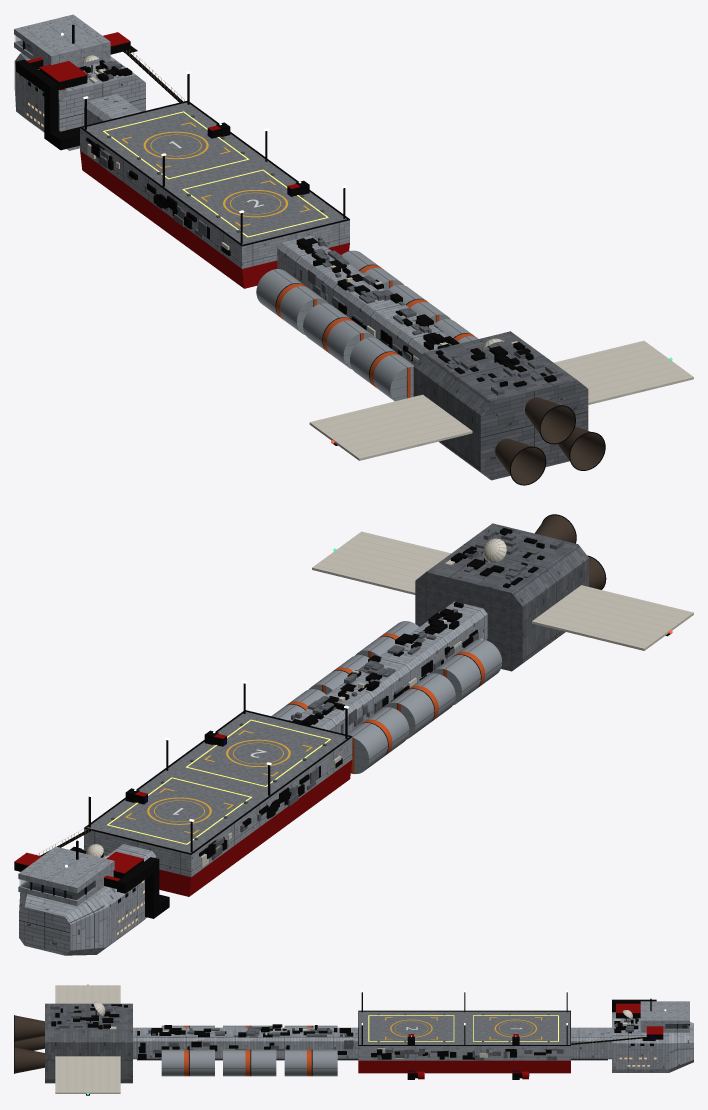
File: halyard.glb
3 renders of one model, top to bottom at view 1: azimuth 30°, elevation 25°; view 2: azimuth 150°, elevation 25°; view 3: azimuth 270°, elevation 25°, orthographic. The views are drawn at different scales.
Parts seen in each view (by area): view 1: tender:hull, tender:hull2, tender:deckTop, tender:radiator, tender:pod, tender:trim, tender:nozzle, tender:ventral_deck_fairing, tender:dark, tender:transit_guideway; view 2: tender:hull, tender:deckTop, tender:radiator, tender:hull2, tender:pod, tender:engine_forward_bulkhead, tender:trim, tender:ventral_deck_fairing, tender:dark, tender:transit_guideway, tender:nozzle; view 3: tender:hull, tender:deckTop, tender:hull2, tender:pod, tender:radiator, tender:ventral_deck_fairing, tender:trim, tender:nozzle, tender:dark, tender:transit_guideway, tender:detail_19, tender:detail_22 (+4 smaller).
Part boxes in pixels (left/top/right/bottom): tender:hull: left=14, top=14, right=447, bottom=364; tender:hull2: left=73, top=60, right=588, bottom=480; tender:deckTop: left=83, top=102, right=346, bottom=244; tender:radiator: left=82, top=55, right=693, bottom=460; tender:pod: left=256, top=250, right=478, bottom=401; tender:trim: left=23, top=24, right=605, bottom=485; tender:nozzle: left=495, top=397, right=604, bottom=484; tender:ventral_deck_fairing: left=80, top=150, right=349, bottom=288; tender:dark: left=85, top=66, right=546, bottom=387; tender:transit_guideway: left=16, top=59, right=309, bottom=194; tender:hull: left=18, top=601, right=487, bottom=955; tender:deckTop: left=87, top=712, right=348, bottom=852; tender:radiator: left=86, top=531, right=693, bottom=867; tender:hull2: left=211, top=523, right=588, bottom=860; tender:pod: left=271, top=621, right=502, bottom=773; tender:engine_forward_bulkhead: left=415, top=572, right=522, bottom=671; tender:trim: left=30, top=514, right=670, bottom=898; tender:ventral_deck_fairing: left=159, top=760, right=352, bottom=896; tender:dark: left=78, top=531, right=544, bottom=852; tender:transit_guideway: left=117, top=730, right=218, bottom=918; tender:nozzle: left=534, top=515, right=605, bottom=589; tender:hull: left=133, top=1001, right=693, bottom=1072; tender:deckTop: left=359, top=1011, right=570, bottom=1044; tender:hull2: left=45, top=1003, right=633, bottom=1083; tender:pod: left=161, top=1025, right=337, bottom=1076; tender:radiator: left=55, top=985, right=632, bottom=1093; tender:ventral_deck_fairing: left=358, top=1060, right=570, bottom=1073; tender:trim: left=14, top=992, right=689, bottom=1095; tender:nozzle: left=14, top=1015, right=44, bottom=1073; tender:dark: left=55, top=1004, right=638, bottom=1060; tender:transit_guideway: left=407, top=999, right=656, bottom=1079; tender:detail_19: left=489, top=1017, right=542, bottom=1039; tender:detail_22: left=385, top=1017, right=437, bottom=1039.
Size of the model in its own units: 126 by 39 by 332.
53 materials, 14 textured.
